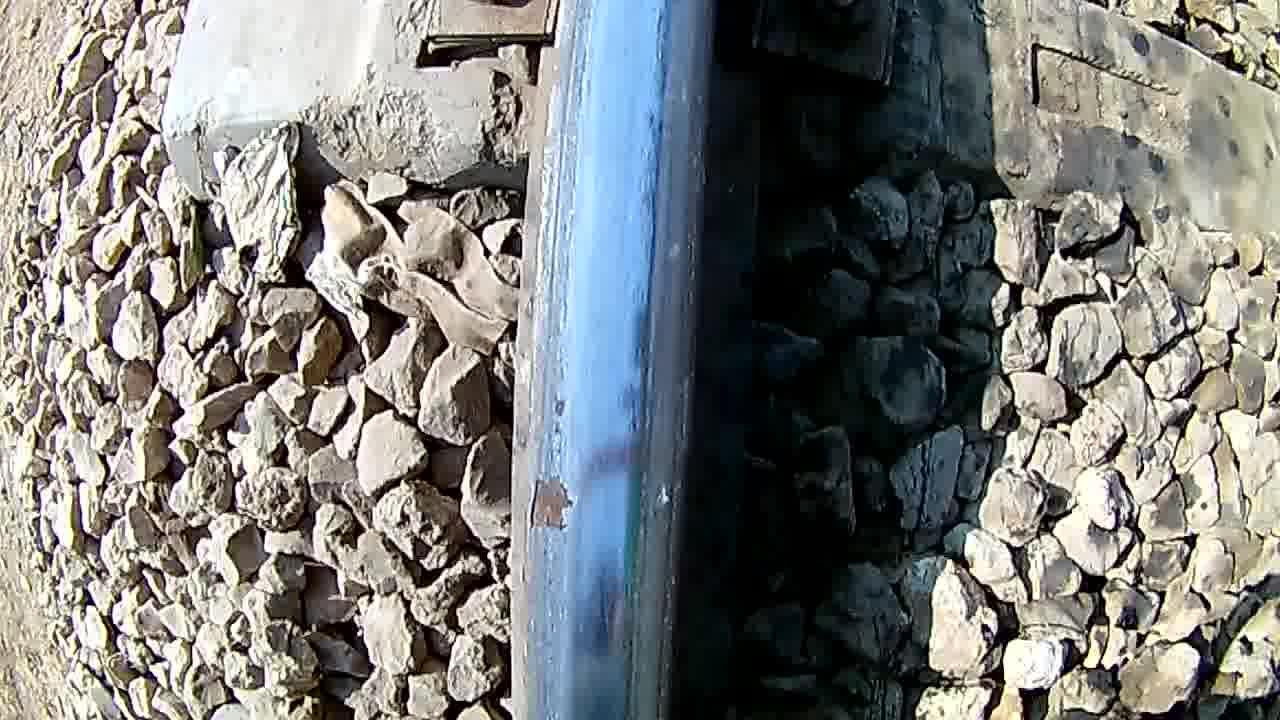crack: (526, 9, 694, 720)
